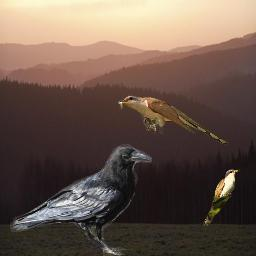Crow: (10, 144, 152, 256)
Cuckoo: (116, 95, 228, 145), (202, 168, 241, 227)
